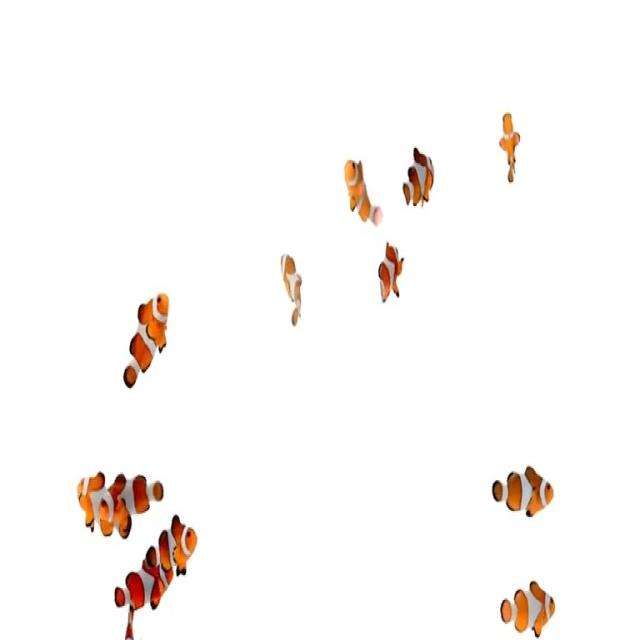fish: (116, 287, 181, 413), (488, 456, 562, 532), (105, 564, 178, 640), (494, 568, 568, 640), (76, 459, 129, 542), (95, 468, 168, 526), (148, 507, 208, 576), (492, 89, 530, 190), (344, 139, 383, 233), (274, 249, 313, 337), (402, 134, 442, 218), (376, 240, 414, 310)
